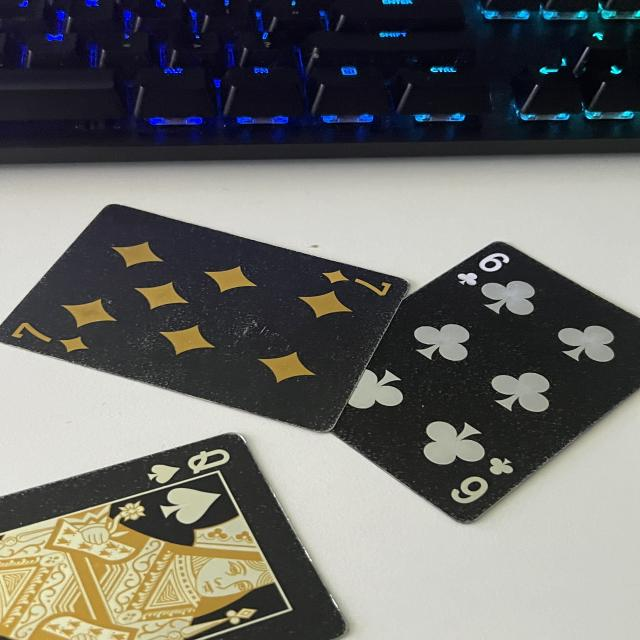6C: (440, 244, 520, 295), (446, 455, 516, 512)
7D: (12, 321, 93, 362), (317, 261, 400, 300)
QS: (131, 440, 233, 481)
